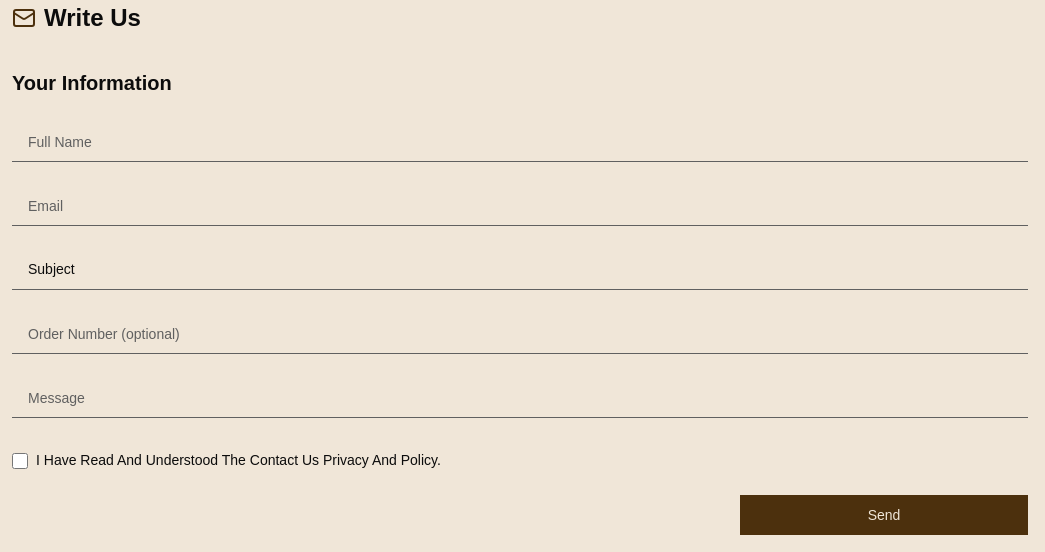
Contact form › submits valid input and shows the success state
This screenshot has width=1045, height=552.
Type "Nina Davis" into the field with placeholder "Full Name". click: x=520, y=142
box: left=12, top=122, right=1028, bottom=162
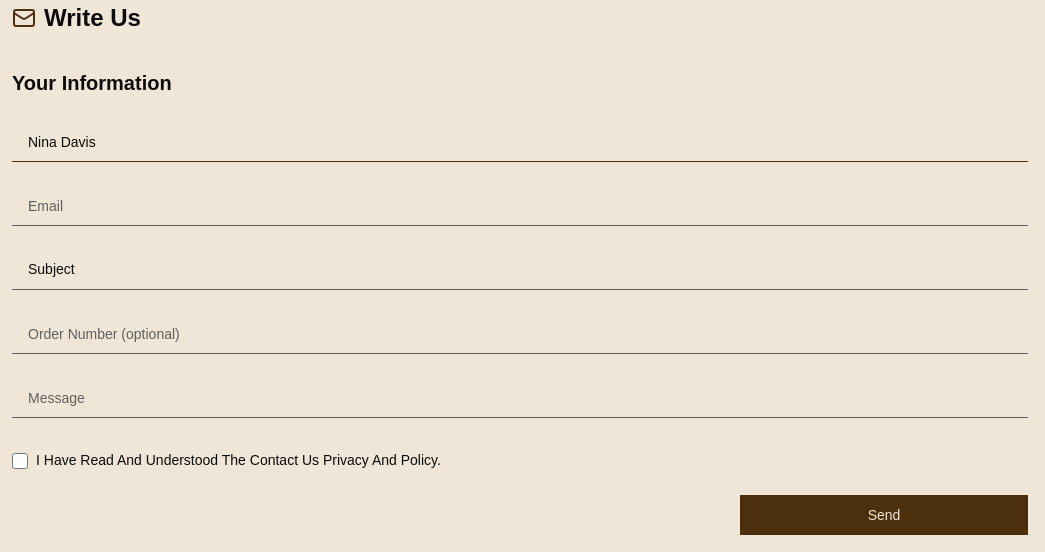
Type "nina@example.com" into the field with placeholder "Email". click: x=520, y=206
box: left=12, top=186, right=1028, bottom=226
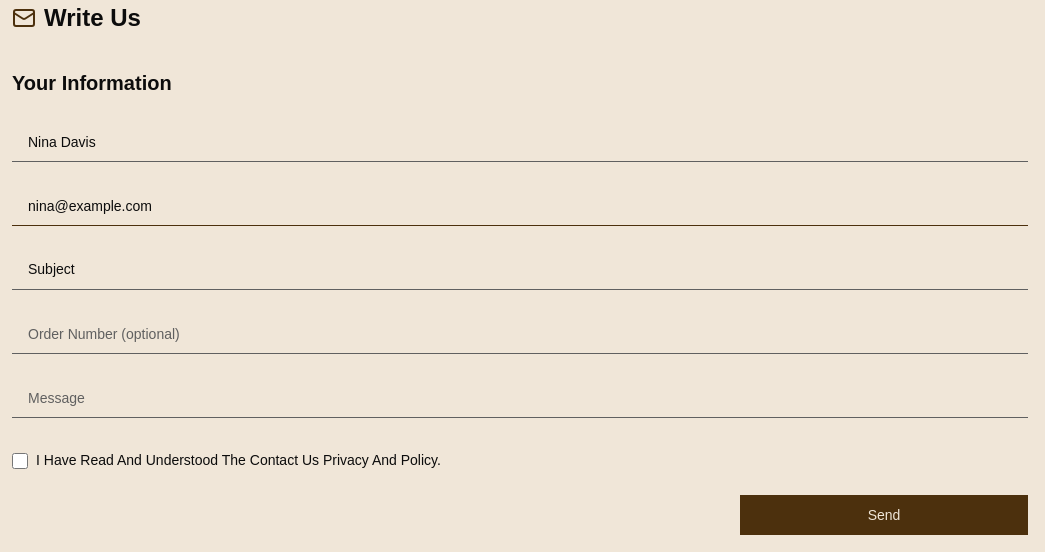
Select "Order Support" in the dropdown. click: x=520, y=270
box: left=12, top=250, right=1028, bottom=290
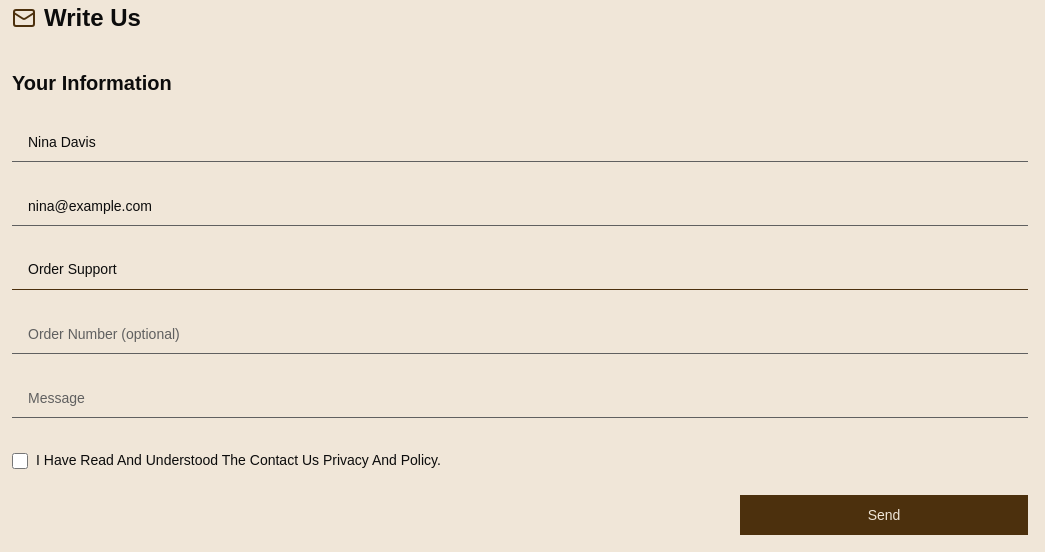
Type "Where is my order?" into the field with placeholder "Message". click: x=520, y=398
box: left=12, top=378, right=1028, bottom=418
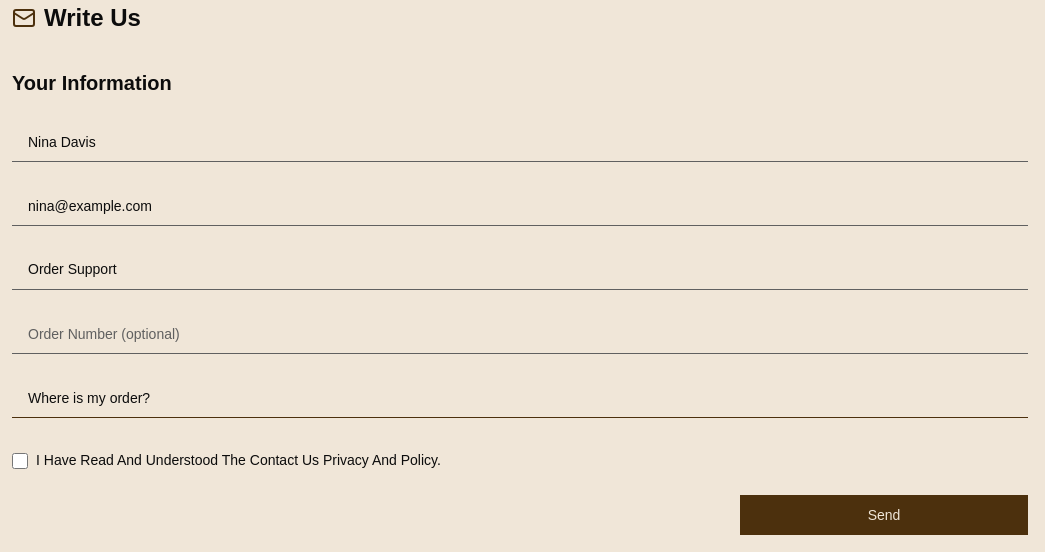
Click the checkbox. click: x=20, y=460
box: left=12, top=452, right=28, bottom=468
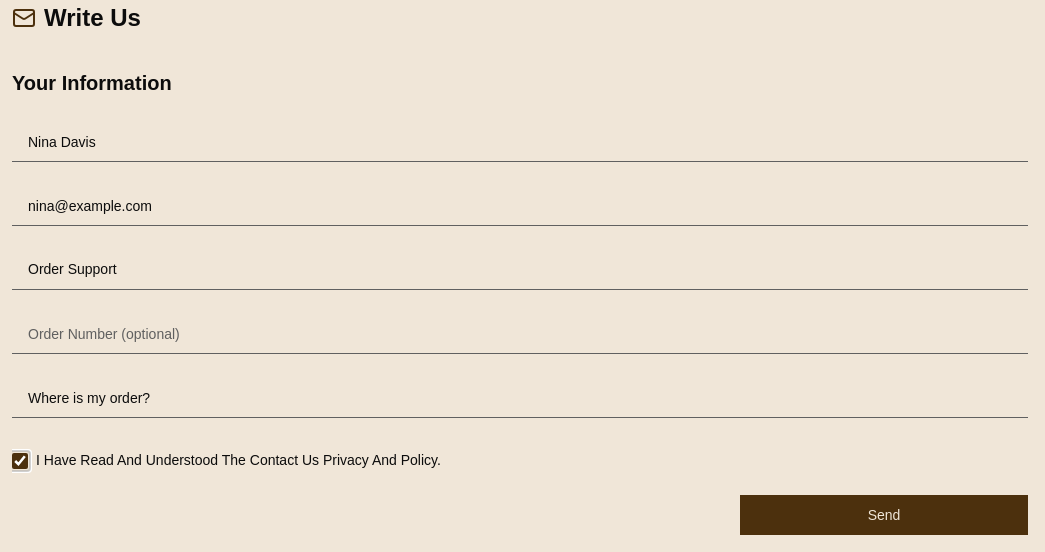
Click the button "Send". click: x=884, y=515
box: left=740, top=495, right=1028, bottom=535
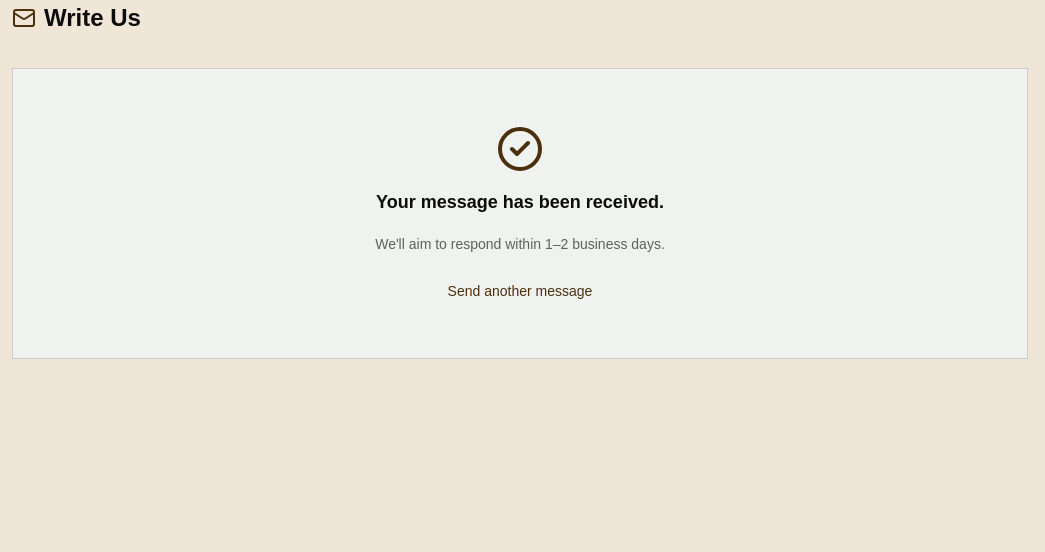
expect the text "Your message has been received." is shown: met, box left=376, top=189, right=664, bottom=216
